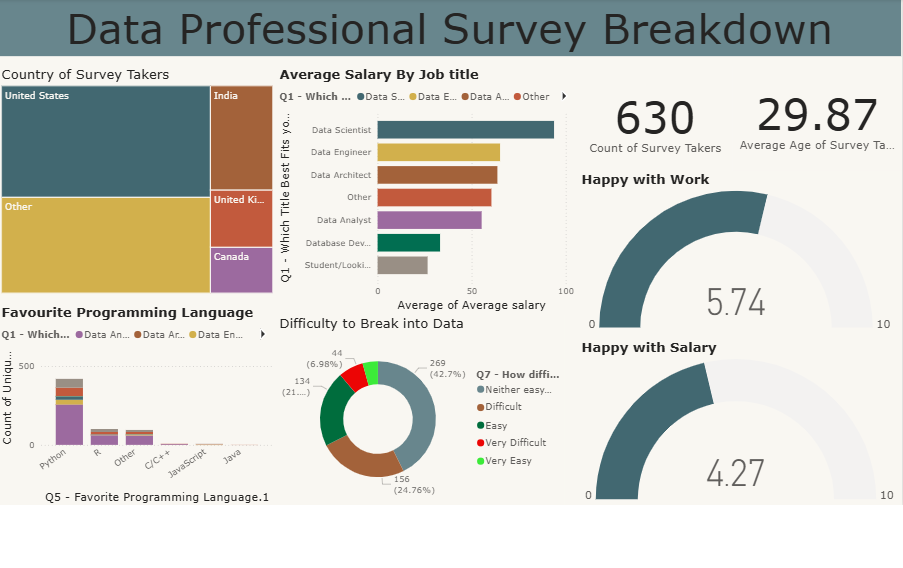

What the dashboard file says about the page in this screenshot:
{"tool":"powerbi","page":{"name":"Page 1","canvas":[1280,720],"ordinal":0},"visuals":[{"type":"textbox","box":[0,0,1280.2,80.6],"z":0},{"type":"card","fields":{"Values":["Count(Data Professional Survey.Unique ID)"]},"box":[822.2,95,218.9,155.5],"z":1000},{"type":"card","fields":{"Values":["Avg(Data Professional Survey.Q10 - Current Age)"]},"box":[1041.1,95,239,148.3],"z":2000},{"type":"barChart","title":"Average Salary By Job title","fields":{"Category":["Data Professional Survey.Q1 - Which Title Best Fits your Current Role?.1"],"Y":["Avg(Data Professional Survey.Average salary)"],"Series":["Data Professional Survey.Q1 - Which Title Best Fits your Current Role?.1"]},"box":[394.6,95,427.7,352.8],"z":3000},{"type":"columnChart","title":"Favourite Programming Language","fields":{"Category":["Data Professional Survey.Q5 - Favorite Programming Language.1"],"Y":["CountNonNull(Data Professional Survey.Unique ID)"],"Series":["Data Professional Survey.Q1 - Which Title Best Fits your Current Role?.1"]},"box":[0,432,394.6,288],"z":4000},{"type":"treemap","title":"Country of Survey Takers","fields":{"Group":["Data Professional Survey.Q11 - Which Country do you live in?.1"],"Values":["CountNonNull(Data Professional Survey.Q11 - Which Country do you live in?.1)"]},"box":[0,95,394.6,326.9],"z":5000},{"type":"gauge","title":"Happy with Work","fields":{"Y":["Avg(Data Professional Survey.Q6 - How Happy are you in your Current Position with the following? (Work/Life Balance))"],"MaxValue":["Max(Data Professional Survey.Q6 - How Happy are you in your Current Position with the following? (Work/Life Balance))1"],"MinValue":["Min(Data Professional Survey.Q6 - How Happy are you in your Current Position with the following? (Work/Life Balance))"]},"box":[822.2,243.4,457.9,231.8],"z":6000},{"type":"gauge","title":"Happy with Salary","fields":{"Y":["Avg(Data Professional Survey.Q6 - How Happy are you in your Current Position with the following? (Salary))"],"MinValue":["Min(Data Professional Survey.Q6 - How Happy are you in your Current Position with the following? (Salary))"],"MaxValue":["Max(Data Professional Survey.Q6 - How Happy are you in your Current Position with the following? (Salary))"]},"box":[822.2,482.4,457.9,237.6],"z":7000},{"type":"donutChart","title":"Difficulty to Break into Data","fields":{"Category":["Data Professional Survey.Q7 - How difficult was it for you to break into Data?"],"Y":["CountNonNull(Data Professional Survey.Q7 - How difficult was it for you to break into Data?)"]},"box":[394.6,447.8,409,272.2],"z":8000}]}

Visuals, with their boxes on the page's 1280x720 design canvas (x1, y1, x2, y2). These are canvas units, not pixel positions in the 903x568 screenshot, which may show the page scaled, cropped or inside an application window:
textbox: rect(0, 0, 1280, 81)
card - Count(Data Professional Survey.Unique ID): rect(822, 95, 1041, 250)
card - Avg(Data Professional Survey.Q10 - Current Age): rect(1041, 95, 1280, 243)
"Average Salary By Job title" barChart: rect(395, 95, 822, 448)
"Favourite Programming Language" columnChart: rect(0, 432, 395, 720)
"Country of Survey Takers" treemap: rect(0, 95, 395, 422)
"Happy with Work" gauge: rect(822, 243, 1280, 475)
"Happy with Salary" gauge: rect(822, 482, 1280, 720)
"Difficulty to Break into Data" donutChart: rect(395, 448, 804, 720)
